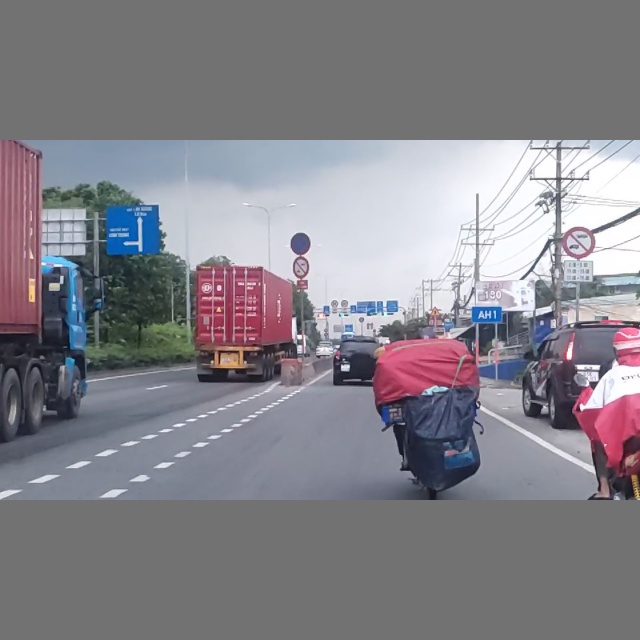P.107: (563, 227, 595, 258)
P.111: (293, 257, 309, 279)
P.130: (290, 232, 311, 254)
